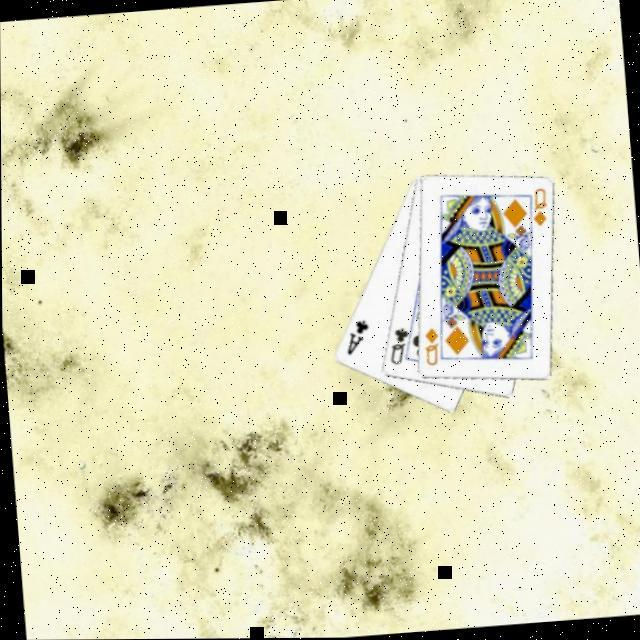AC: (341, 315, 374, 357)
QC: (385, 323, 414, 367)
QD: (529, 184, 552, 229), (420, 324, 443, 368)
